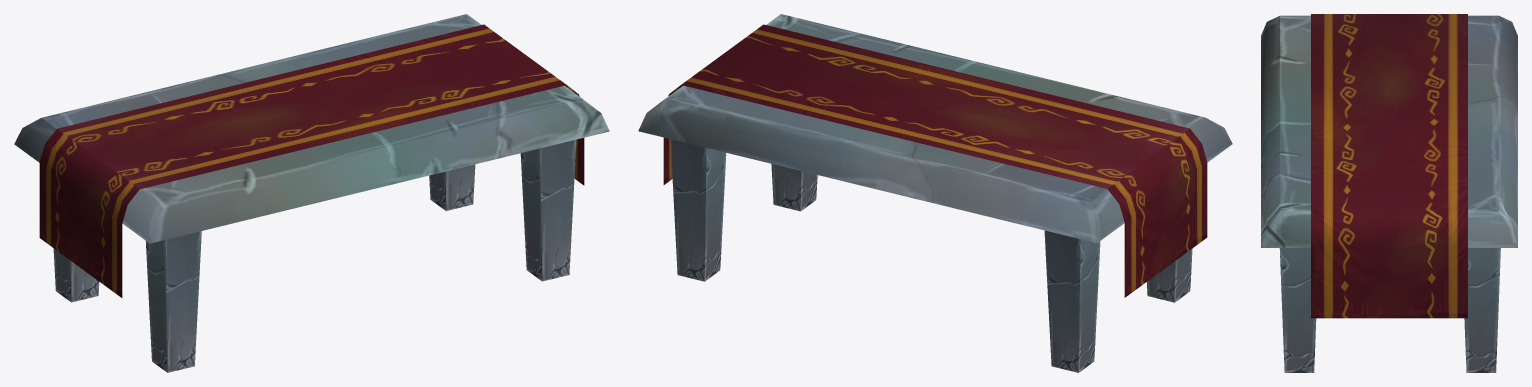
The model's file is table.FBX.
3 views of the same model, side by side, from view 1: azimuth 30°, elevation 25°; view 2: azimuth 150°, elevation 25°; view 3: azimuth 270°, elevation 25° (orthographic). The views are drawn at different scales.
Visible parts, largest first — view 1: table; view 2: table; view 3: table.
Boxes of the visible parts, left/top/right/bottom form: table: left=14, top=14, right=609, bottom=372; table: left=638, top=14, right=1232, bottom=372; table: left=1261, top=14, right=1517, bottom=372.
Bounding box in the file's own units: 86.99 × 31.8 × 44.3.
